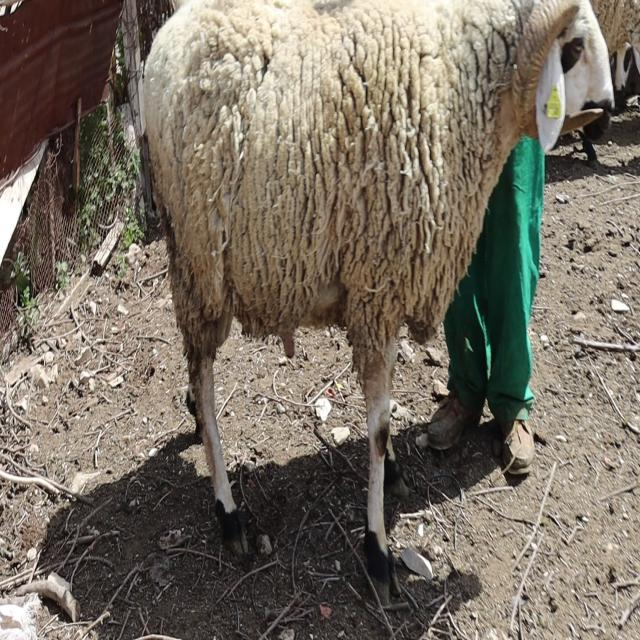Score_5: (144, 0, 614, 604)
